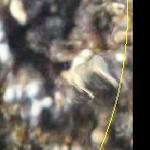alive: (1, 1, 132, 147)
